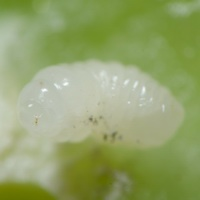insect: (17, 61, 183, 147)
